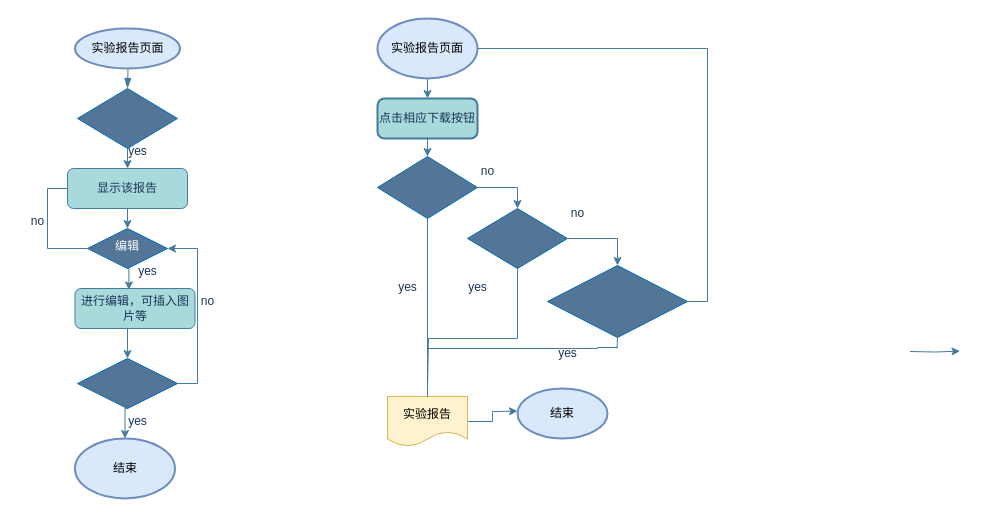
The diagram is 985 pixels wide and 516 high, and some of its shapes have lost their labels. The centre of each missing label's shape, as x and y in pixels:
"保存" belongs at point (127, 383).
"查看已有报告" belongs at point (127, 118).
"选择html格式" belongs at point (517, 238).
"选择word格式" belongs at point (427, 187).
"选择新窗口打开， 进行pdf打印" belongs at point (617, 301).
